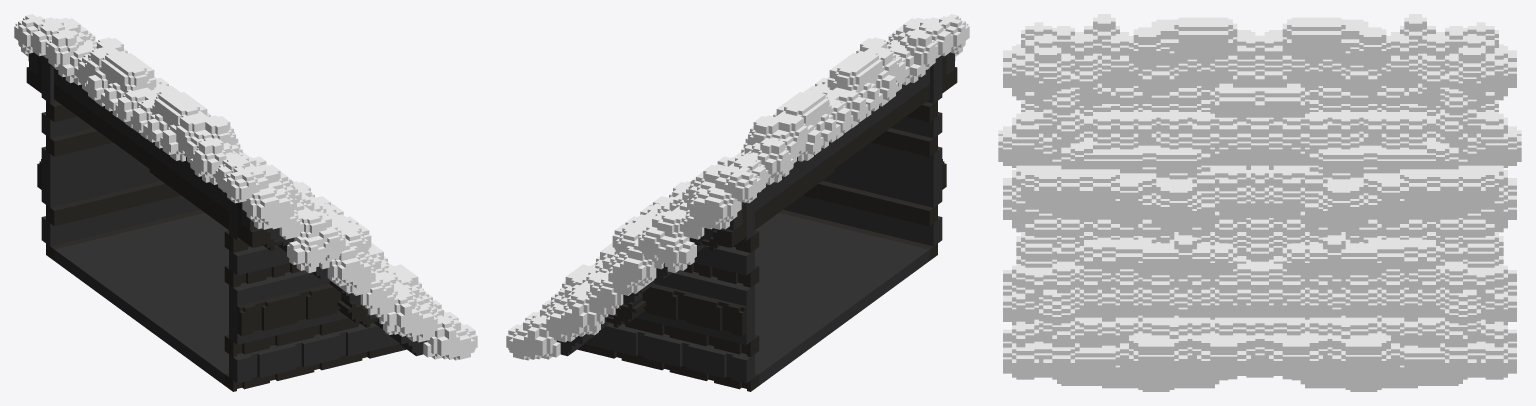
File: RoofFullFilledSnowedStone.obj
3 views of the same model, side by side, from view 1: azimuth 30°, elevation 25°; view 2: azimuth 150°, elevation 25°; view 3: azimuth 270°, elevation 25° (orthographic). The views are drawn at different scales.
Size of the model in its own units: 6.5 by 6.5 by 11.6.
Materials: 1 (1 with a texture image).
